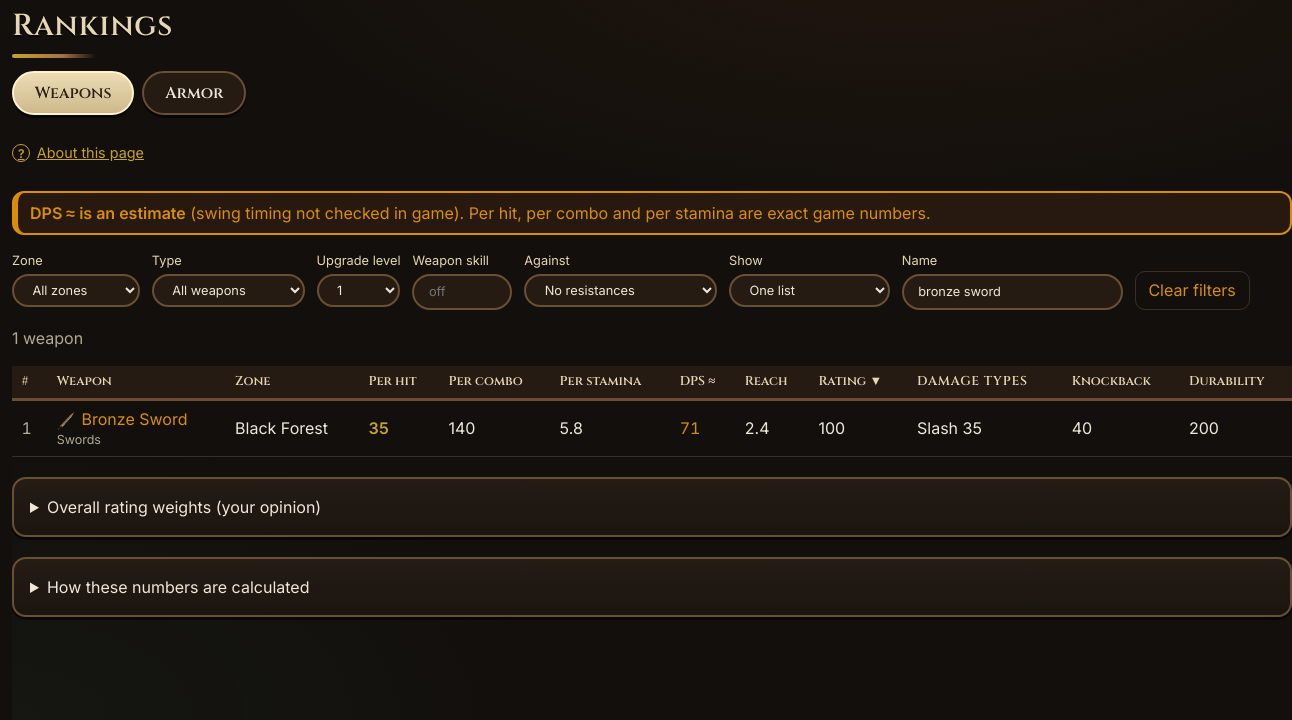
weapon rankings page › raises the damage with the upgrade level
Expected: the cell "35" is shown, [359,399,439,456]
Select "4" in the dropdown labelled "Upgrade level" at (359, 290), box [317,274,400,307]
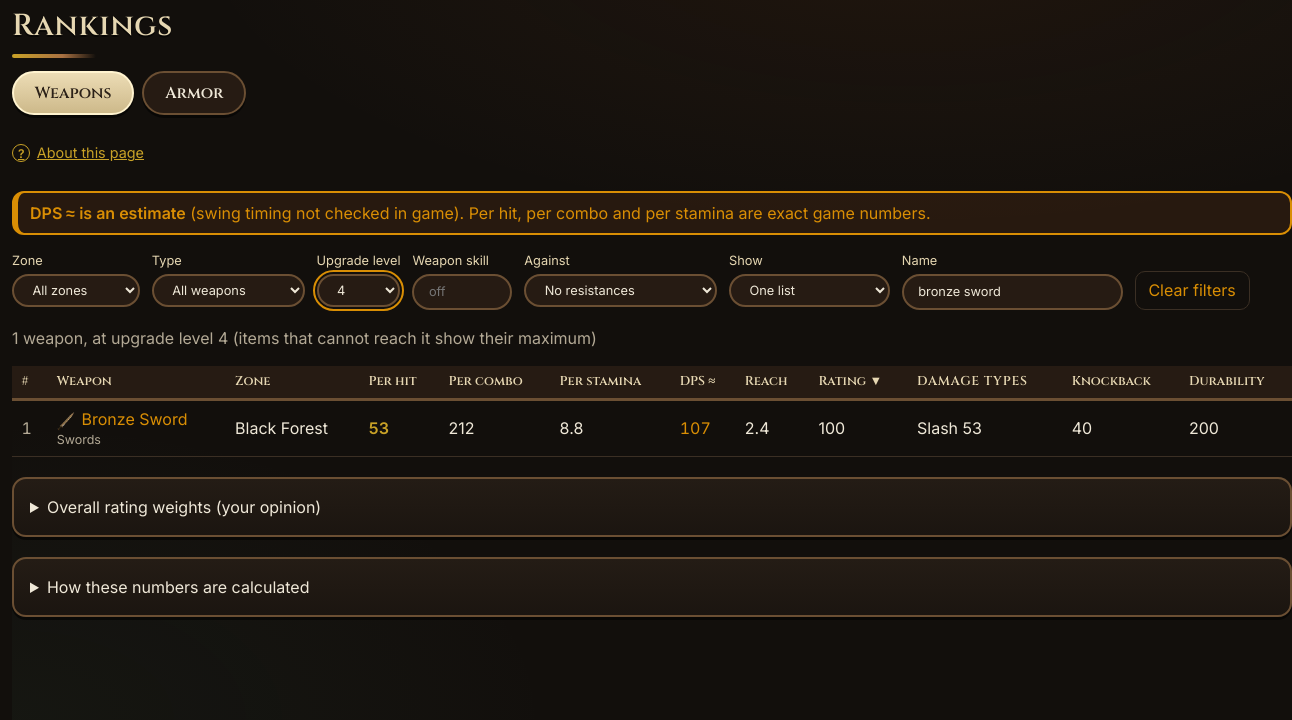
Result: the cell "53" is shown at [359,399,439,456]
